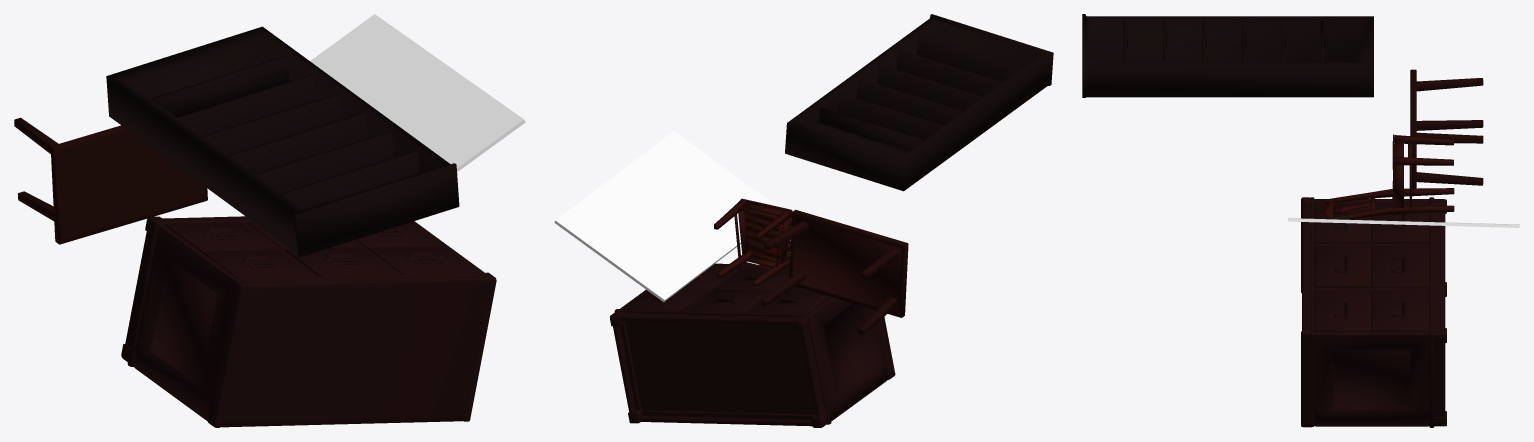
3 renders of one model, left to right at view 1: azimuth 30°, elevation 25°; view 2: azimuth 150°, elevation 25°; view 3: azimuth 270°, elevation 25°, orthographic. The views are drawn at different scales.
Parts seen in each view (by area): view 1: diffuse_cabinet_01, diffuse_shelf_03, glass_door_01, diffuse_table_02; view 2: diffuse_cabinet_01, diffuse_shelf_03, glass_door_01, diffuse_table_02, diffuse_chair_04; view 3: diffuse_cabinet_01, diffuse_shelf_03, diffuse_chair_04, diffuse_table_02, glass_door_01.
Part boxes in pixels (box(x1,y1,x2,y2)): diffuse_cabinet_01: box(121, 216, 496, 427); diffuse_shelf_03: box(106, 26, 459, 257); glass_door_01: box(310, 14, 525, 171); diffuse_table_02: box(14, 117, 207, 244); diffuse_cabinet_01: box(610, 263, 895, 427); diffuse_shelf_03: box(785, 14, 1053, 191); glass_door_01: box(554, 131, 776, 302); diffuse_table_02: box(761, 209, 908, 335); diffuse_chair_04: box(714, 198, 792, 286); diffuse_cabinet_01: box(1301, 197, 1446, 427); diffuse_shelf_03: box(1082, 14, 1373, 97); diffuse_chair_04: box(1323, 134, 1454, 223); diffuse_table_02: box(1410, 69, 1483, 188); glass_door_01: box(1288, 218, 1519, 227).
Bounding box in the file's own units: 224 × 218 × 283.
